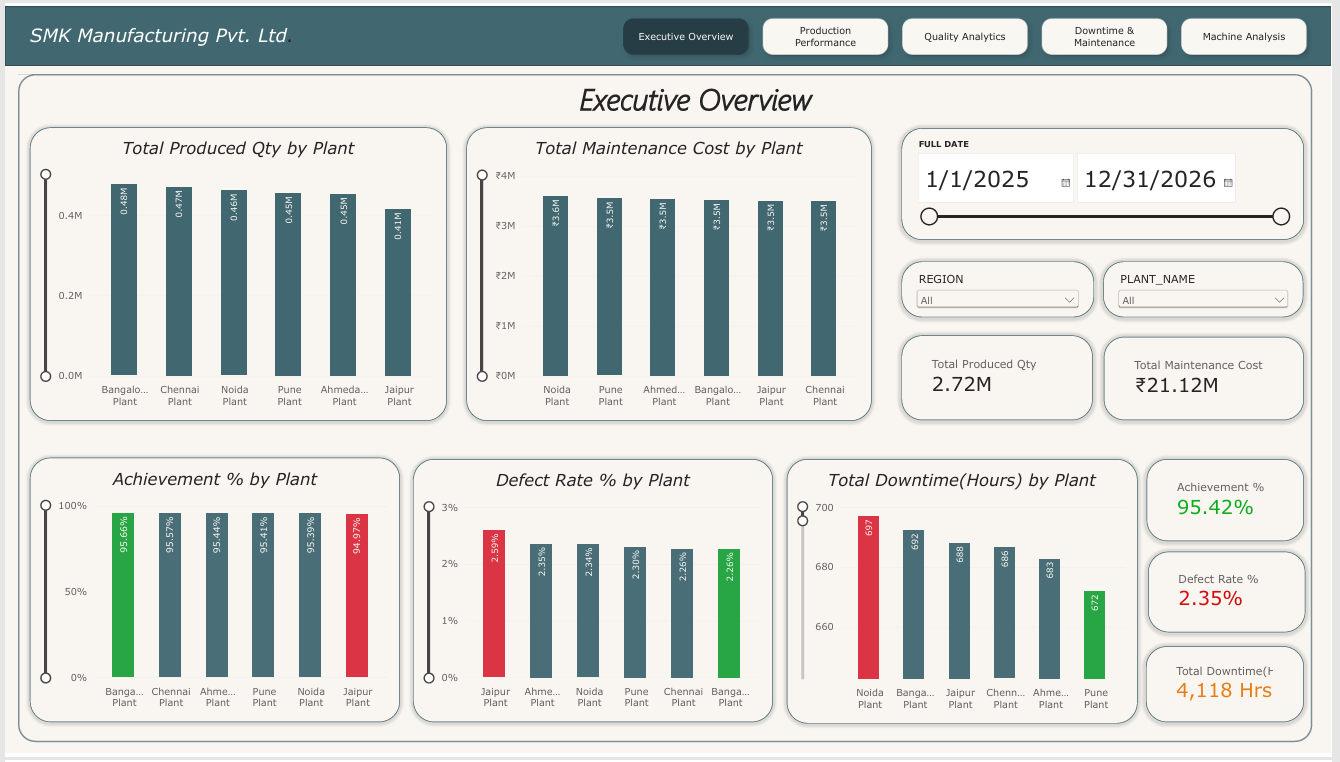

The dashboard page shown, as its layout file describes it:
{"tool":"powerbi","page":{"name":"Executive Overview","canvas":[1920,1080],"ordinal":0},"visuals":[{"type":"shape","box":[19,97.6,1873.8,966.7],"z":500},{"type":"slicer","fields":{"Values":["DIM_PLANT.PLANT_NAME"]},"box":[1590.5,369,290.5,81],"z":1000},{"type":"slicer","fields":{"Values":["DIM_PLANT.REGION"]},"box":[1297.6,369,278.6,81],"z":2000},{"type":"slicer","title":"DATE","fields":{"Values":["DIM_DATE.FULL_DATE"]},"box":[1297.6,176.2,583.3,161.9],"z":3000},{"type":"cardVisual","fields":{"Data":["FACT_DOWNTIME.Total Downtime(Hrs)"]},"box":[1652.4,926.2,228.6,109.5],"z":4000},{"type":"cardVisual","fields":{"Data":["FACT_PRODUCTION.Total Produced Qty"]},"box":[1297.6,476.2,277.4,122.6],"z":5000},{"type":"cardVisual","fields":{"Data":["FACT_PRODUCTION.Achievement %"]},"box":[1652.8,654.7,228.3,118.9],"z":6000},{"type":"cardVisual","fields":{"Data":["FACT_QUALITY.Defect Rate %"]},"box":[1654.7,788.7,228.3,117],"z":7000},{"type":"clusteredColumnChart","title":"Total Produced Qty by Plant ","fields":{"Category":["DIM_PLANT.PLANT_NAME"],"Y":["FACT_PRODUCTION.Total Produced Qty"]},"box":[35.8,175.5,603.8,424.5],"z":8000},{"type":"clusteredColumnChart","title":"Achievement % by Plant","fields":{"Category":["DIM_PLANT.PLANT_NAME"],"Y":["FACT_PRODUCTION.Achievement %"]},"box":[35.8,652.8,535.8,383],"z":9000},{"type":"clusteredColumnChart","title":"Total Downtime(Hours) by Plant","fields":{"Category":["DIM_PLANT.PLANT_NAME"],"Y":["FACT_DOWNTIME.Total Downtime Hrs measure"]},"box":[1132.1,654.7,507.5,383],"z":10000},{"type":"clusteredColumnChart","title":"Defect Rate  % by Plant","fields":{"Category":["DIM_PLANT.PLANT_NAME"],"Y":["FACT_QUALITY.Defect Rate %"]},"box":[590.6,654.7,520.8,381.1],"z":11000},{"type":"clusteredColumnChart","title":"Total Maintenance Cost by Plant ","fields":{"Category":["DIM_PLANT.PLANT_NAME"],"Y":["FACT_MAINTENANCE.Total Maintenance Cost"]},"box":[667.9,175.5,586.8,424.5],"z":12000},{"type":"cardVisual","fields":{"Data":["FACT_MAINTENANCE.Total Maintenance Cost"]},"box":[1590.7,477.8,289.5,121.2],"z":13000},{"type":"shape","box":[0,0,1920.4,85.7],"z":14000},{"type":"textbox","box":[832.1,103.8,407.5,71.7],"z":15000},{"type":"textbox","box":[35.7,7.1,404.8,81],"z":16000},{"type":"pageNavigator","box":[885.7,8.2,1008.2,71.4],"z":17000}]}

Visuals, with their boxes in screenshot pixels (x1, y1, x2, y2), scaled from the page's 1920x1080 canvas onto the 1340x762 screenshot:
shape: (x1=13, y1=69, x2=1321, y2=751)
slicer - DIM_PLANT.PLANT_NAME: (x1=1110, y1=260, x2=1313, y2=318)
slicer - DIM_PLANT.REGION: (x1=906, y1=260, x2=1100, y2=318)
"DATE" slicer: (x1=906, y1=124, x2=1313, y2=239)
cardVisual - FACT_DOWNTIME.Total Downtime(Hrs): (x1=1153, y1=653, x2=1313, y2=731)
cardVisual - FACT_PRODUCTION.Total Produced Qty: (x1=906, y1=336, x2=1099, y2=422)
cardVisual - FACT_PRODUCTION.Achievement %: (x1=1154, y1=462, x2=1313, y2=546)
cardVisual - FACT_QUALITY.Defect Rate %: (x1=1155, y1=556, x2=1314, y2=639)
"Total Produced Qty by Plant " clusteredColumnChart: (x1=25, y1=124, x2=446, y2=423)
"Achievement % by Plant" clusteredColumnChart: (x1=25, y1=461, x2=399, y2=731)
"Total Downtime(Hours) by Plant" clusteredColumnChart: (x1=790, y1=462, x2=1144, y2=732)
"Defect Rate  % by Plant" clusteredColumnChart: (x1=412, y1=462, x2=776, y2=731)
"Total Maintenance Cost by Plant " clusteredColumnChart: (x1=466, y1=124, x2=876, y2=423)
cardVisual - FACT_MAINTENANCE.Total Maintenance Cost: (x1=1110, y1=337, x2=1312, y2=423)
shape: (x1=0, y1=0, x2=1339, y2=60)
textbox: (x1=581, y1=73, x2=865, y2=124)
textbox: (x1=25, y1=5, x2=307, y2=62)
pageNavigator: (x1=618, y1=6, x2=1322, y2=56)
